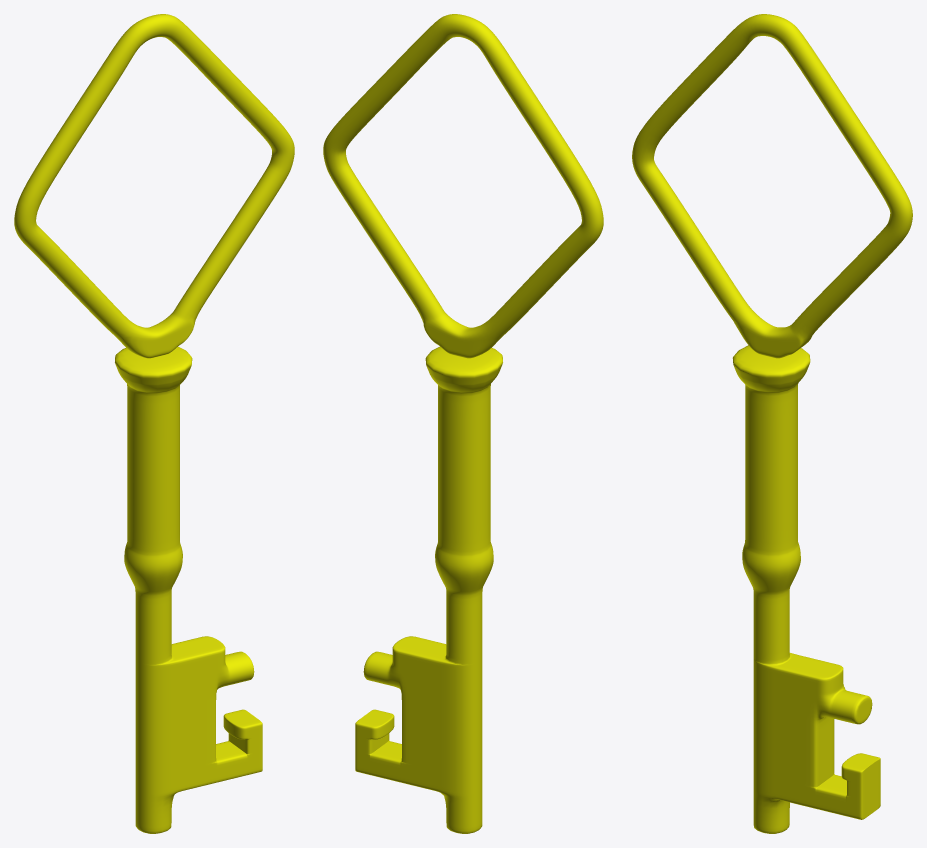
Rendered from yellow.fbx.
3 renders of one model, left to right at view 1: azimuth 30°, elevation 25°; view 2: azimuth 150°, elevation 25°; view 3: azimuth 330°, elevation 25°, orthographic.
Visible parts, largest first — view 1: key_yellow; view 2: key_yellow; view 3: key_yellow.
Part boxes in pixels (<box>): key_yellow: <box>14,14,294,833</box>; key_yellow: <box>323,14,603,833</box>; key_yellow: <box>632,14,912,833</box>.
Bounding box in the file's own units: 39.05 × 109 × 9.39.
